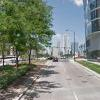Tree: (5, 0, 62, 53)
